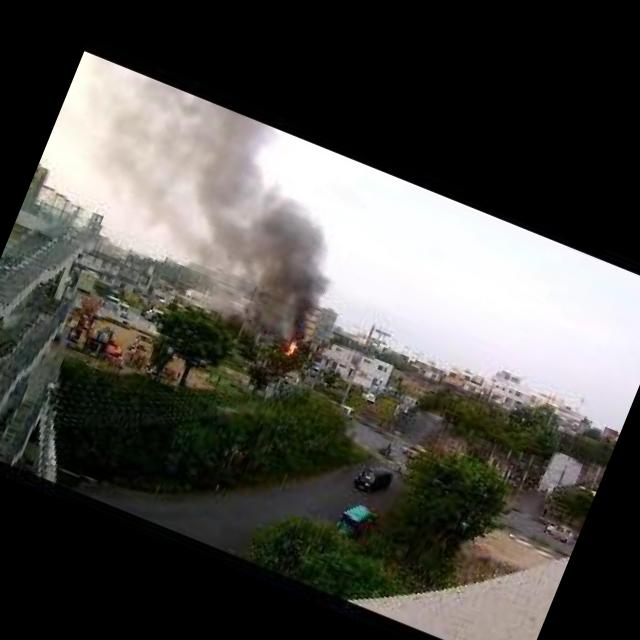fire: (283, 338, 299, 355)
smoke: (49, 66, 378, 346)
